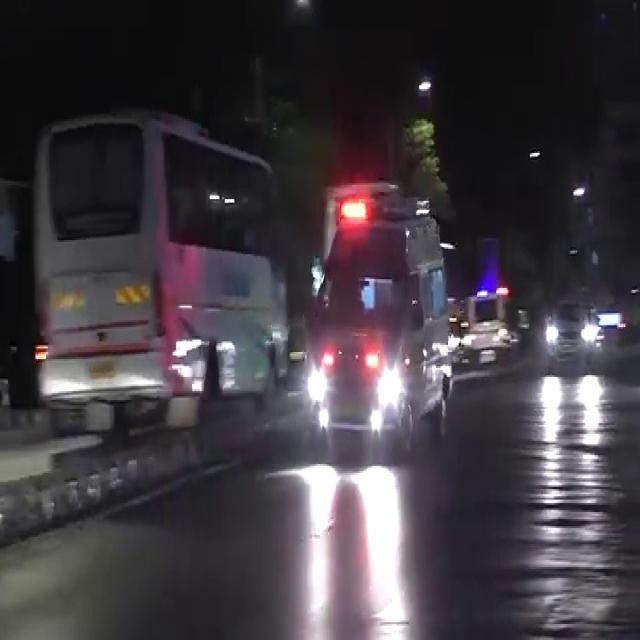ambulance: (316, 198, 456, 442)
